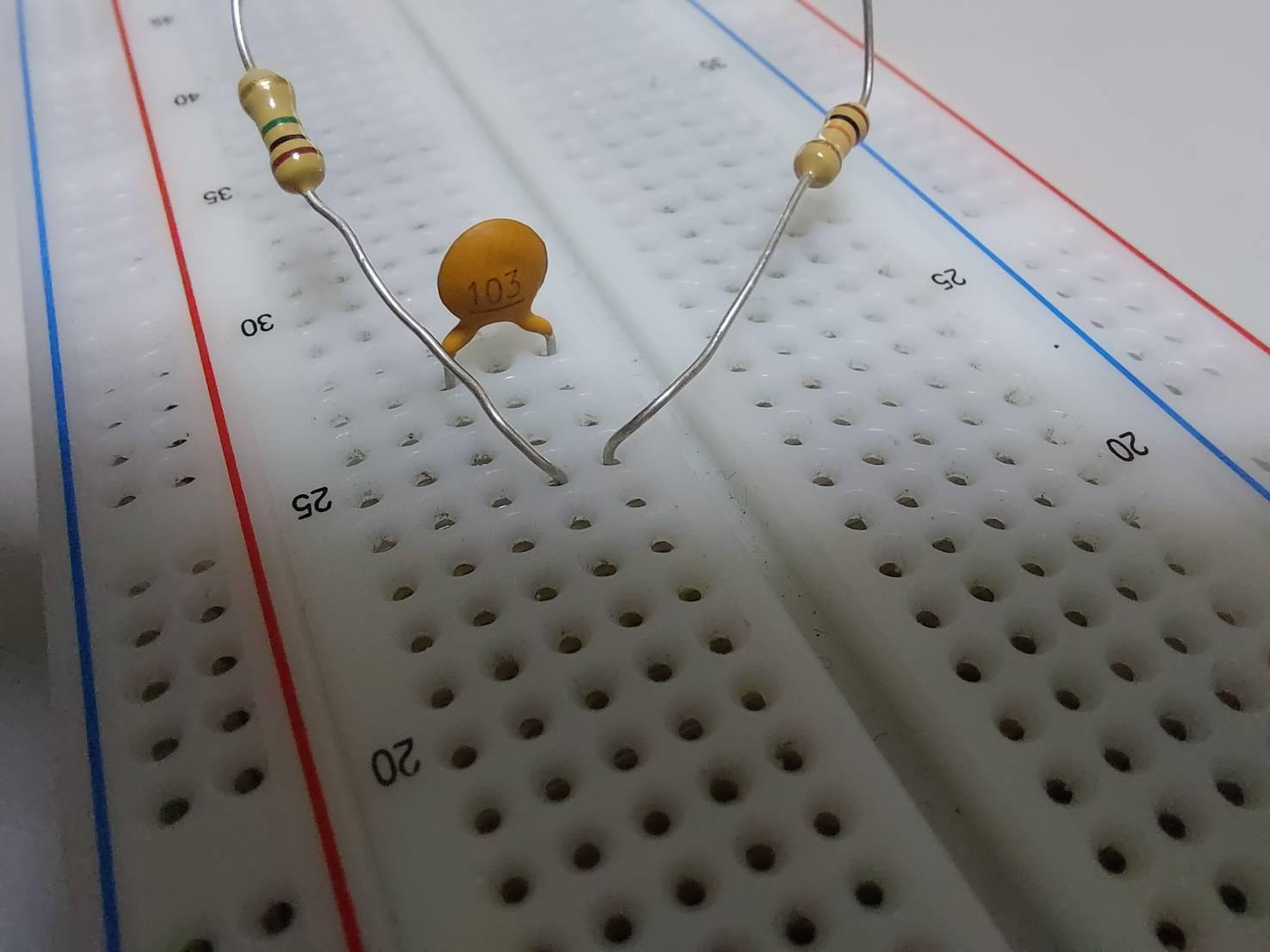resistor: (228, 57, 333, 199), (787, 91, 878, 188)
